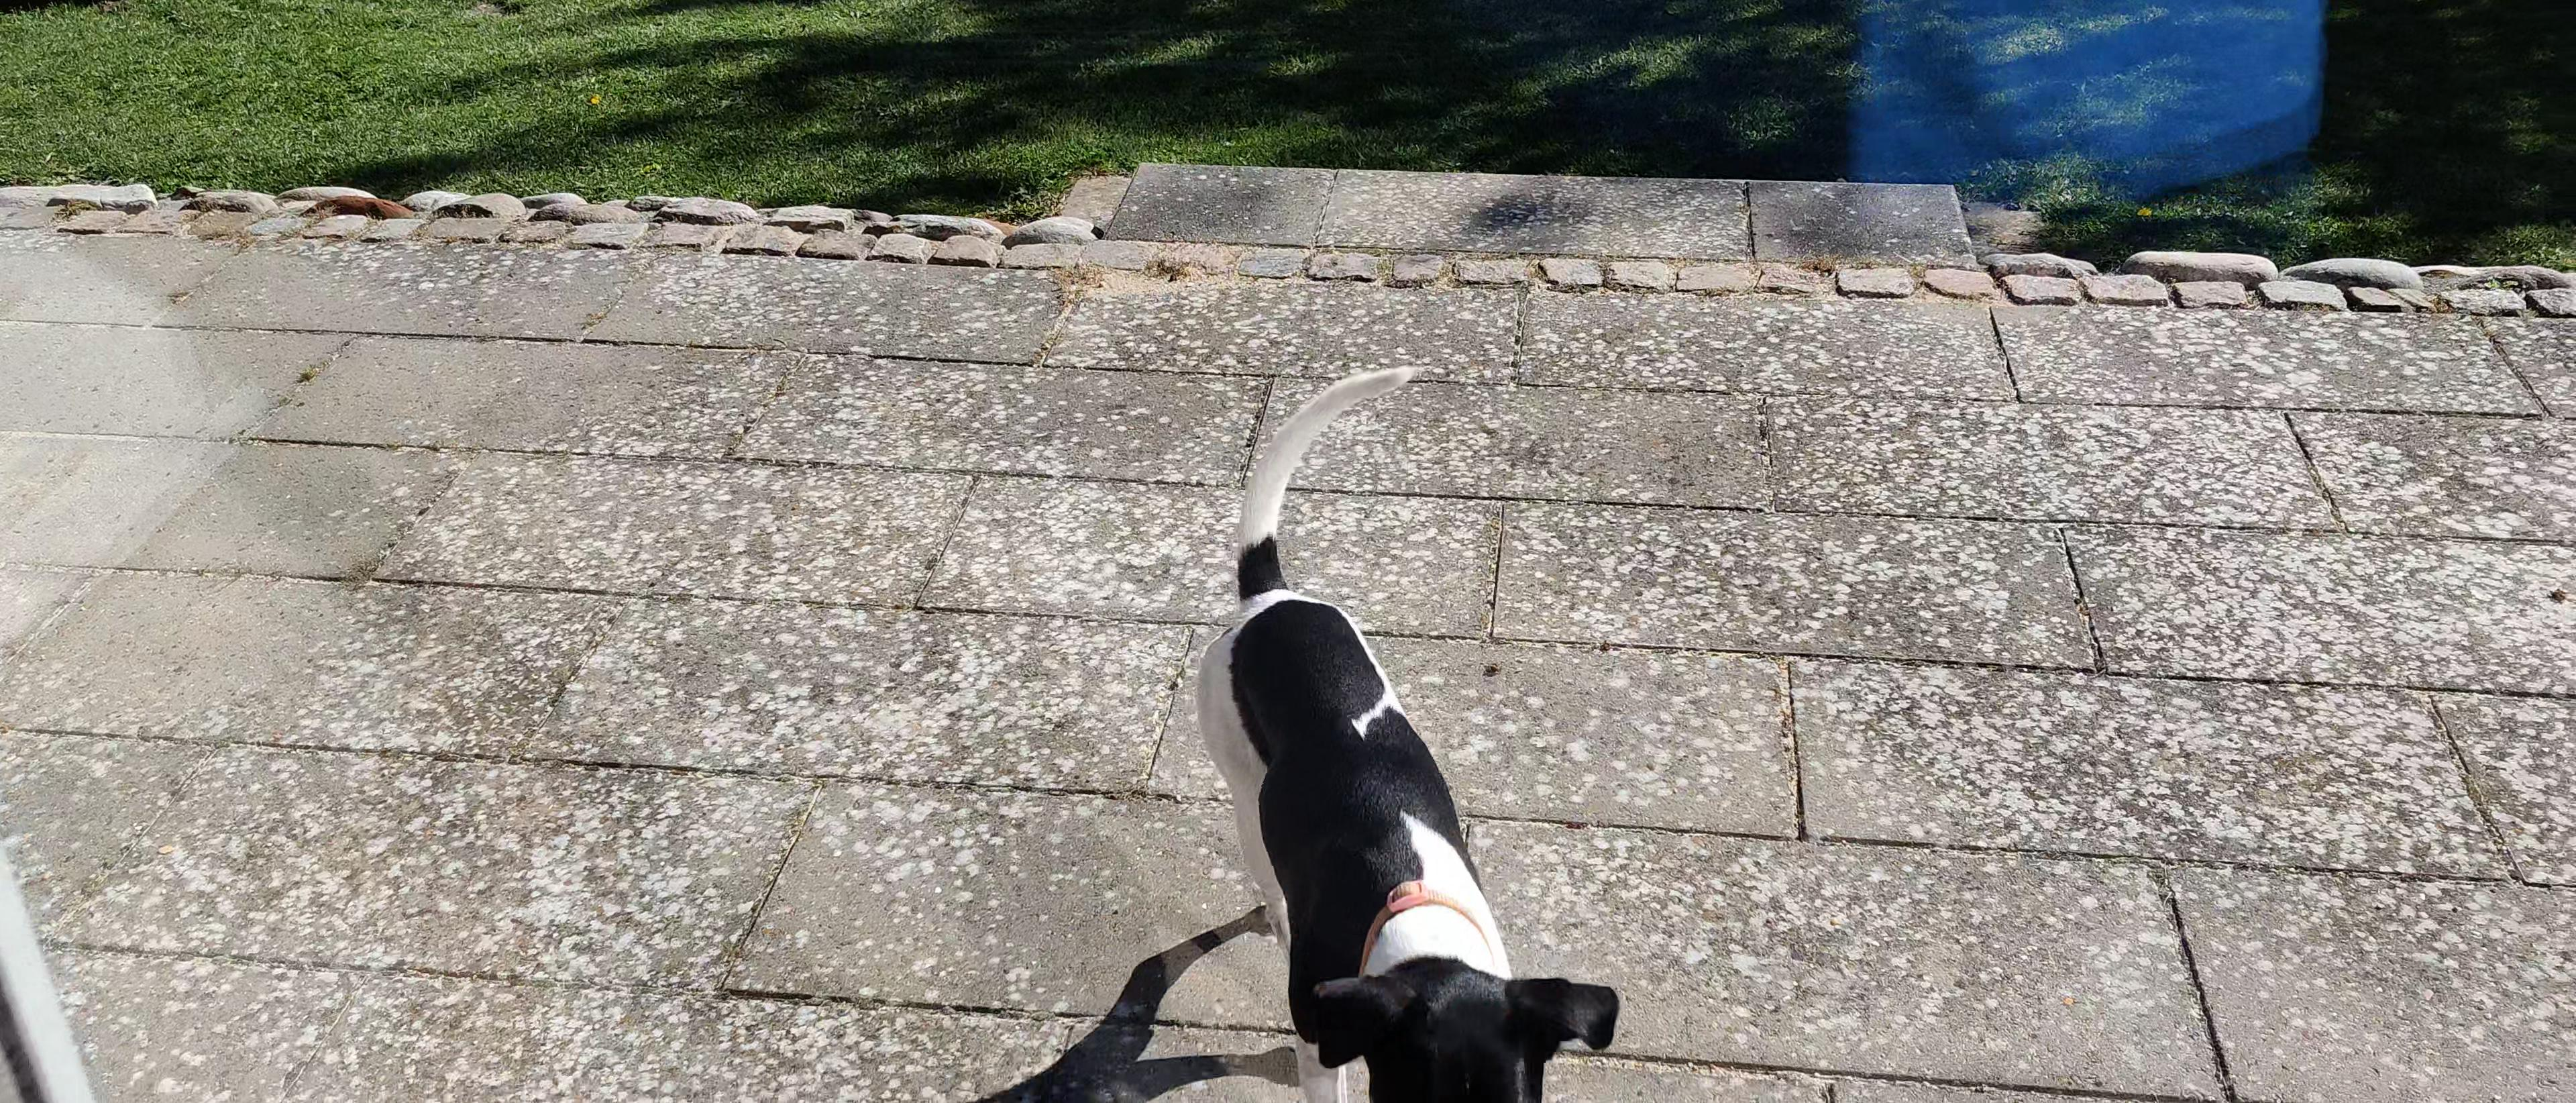Dog: (1183, 352, 1628, 1103)
